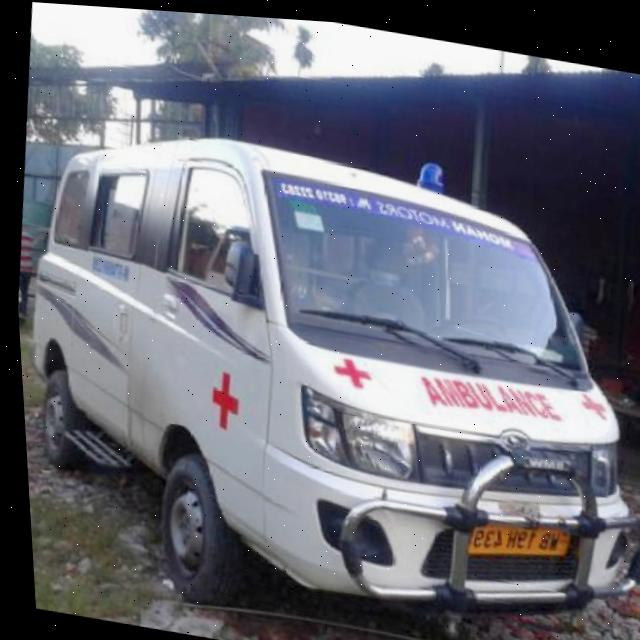emergency: (4, 91, 640, 640)
